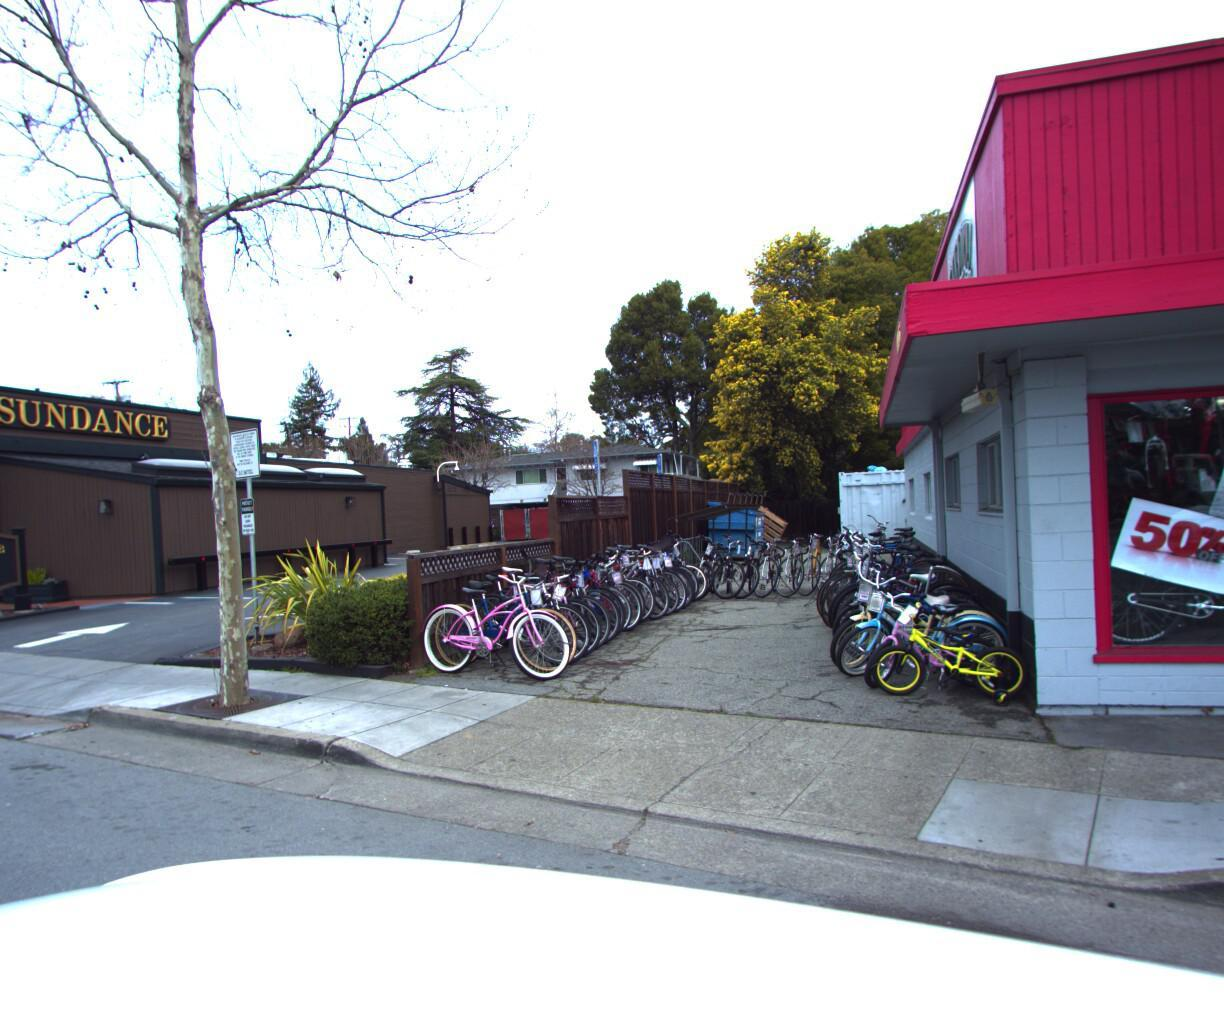bicycle: (834, 543, 994, 673), (830, 560, 996, 682), (828, 575, 1001, 691), (422, 544, 577, 671), (825, 526, 978, 650), (848, 590, 1009, 703), (443, 539, 593, 661), (833, 553, 986, 665), (833, 541, 980, 657), (821, 534, 972, 644), (815, 538, 960, 638), (464, 553, 606, 654), (811, 536, 950, 633), (473, 551, 612, 647), (485, 548, 622, 641), (815, 534, 951, 627), (819, 532, 951, 622), (499, 546, 631, 635), (819, 530, 946, 618), (513, 543, 638, 630), (519, 541, 645, 626), (822, 529, 945, 614), (532, 539, 652, 621), (542, 537, 662, 617), (820, 516, 931, 602), (817, 517, 928, 601), (822, 515, 930, 597), (817, 528, 930, 606), (558, 536, 671, 613), (570, 534, 679, 610), (579, 532, 688, 606), (583, 531, 693, 603), (591, 529, 699, 600), (693, 522, 728, 598), (716, 521, 749, 597), (740, 520, 771, 597), (763, 520, 792, 596), (788, 519, 814, 596), (820, 518, 845, 595)
